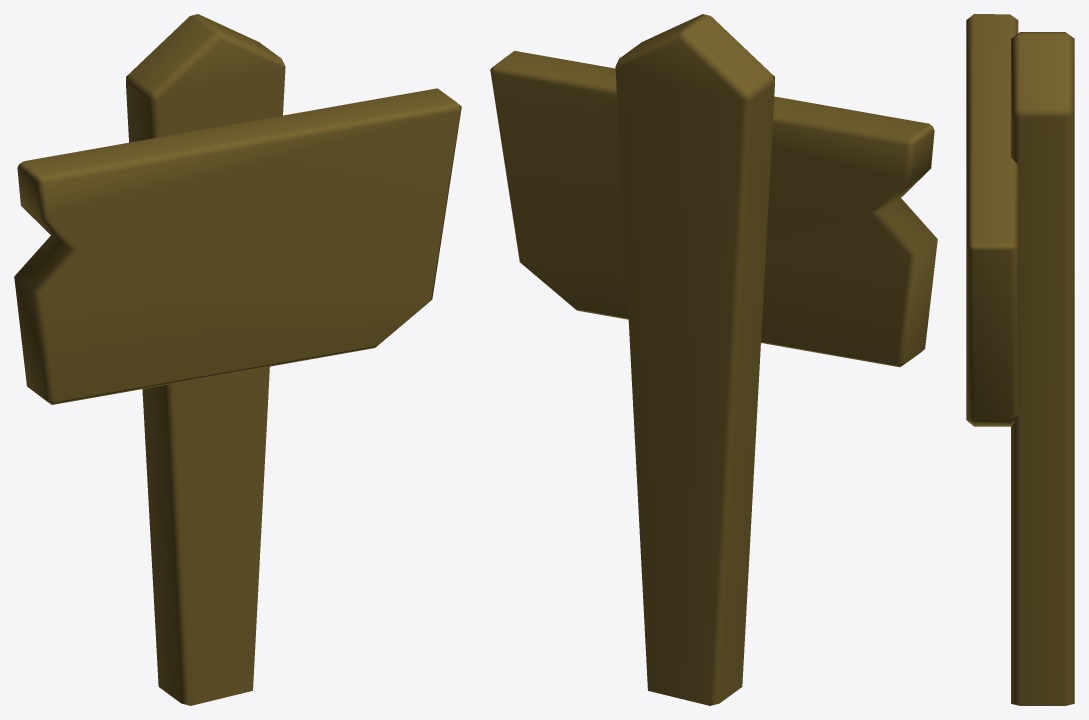
The model's file is Sign.fbx.
3 views of the same model, side by side, from view 1: azimuth 30°, elevation 25°; view 2: azimuth 150°, elevation 25°; view 3: azimuth 270°, elevation 25° (orthographic).
Parts seen in each view (by area): view 1: Sign; view 2: Sign; view 3: Sign.
Part boxes in pixels (box(x1,y1,x2,y2)): Sign: box(14, 14, 461, 705); Sign: box(490, 14, 937, 705); Sign: box(966, 14, 1074, 705).
Bounding box in the file's own units: 96.59 × 143 × 21.43.
